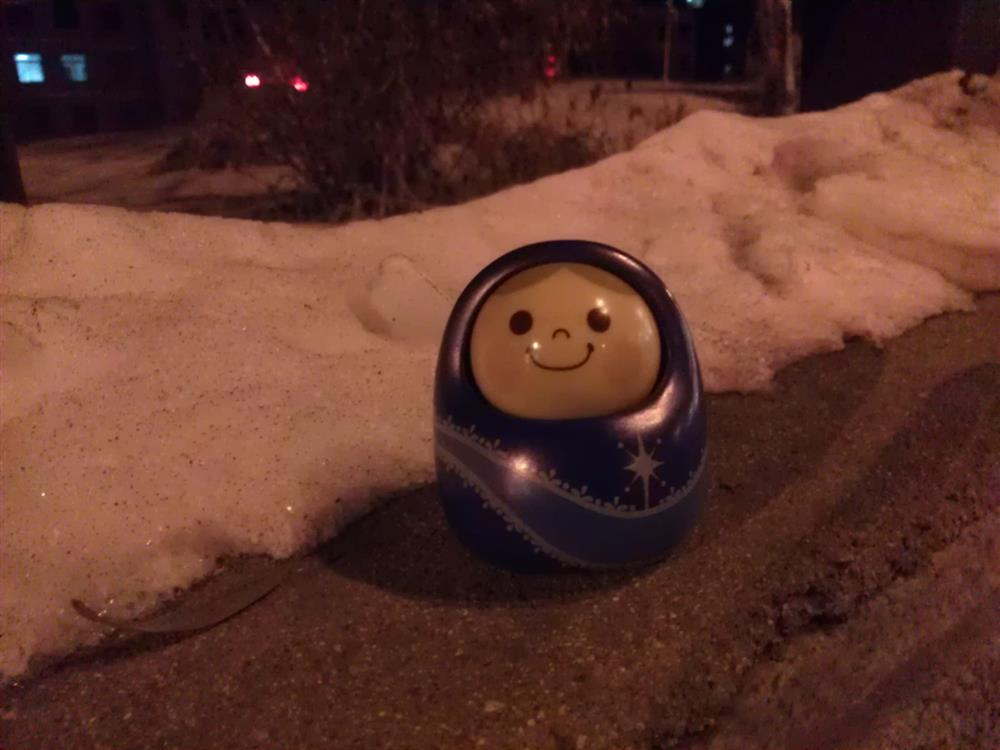matryoshka: (423, 232, 716, 585)
